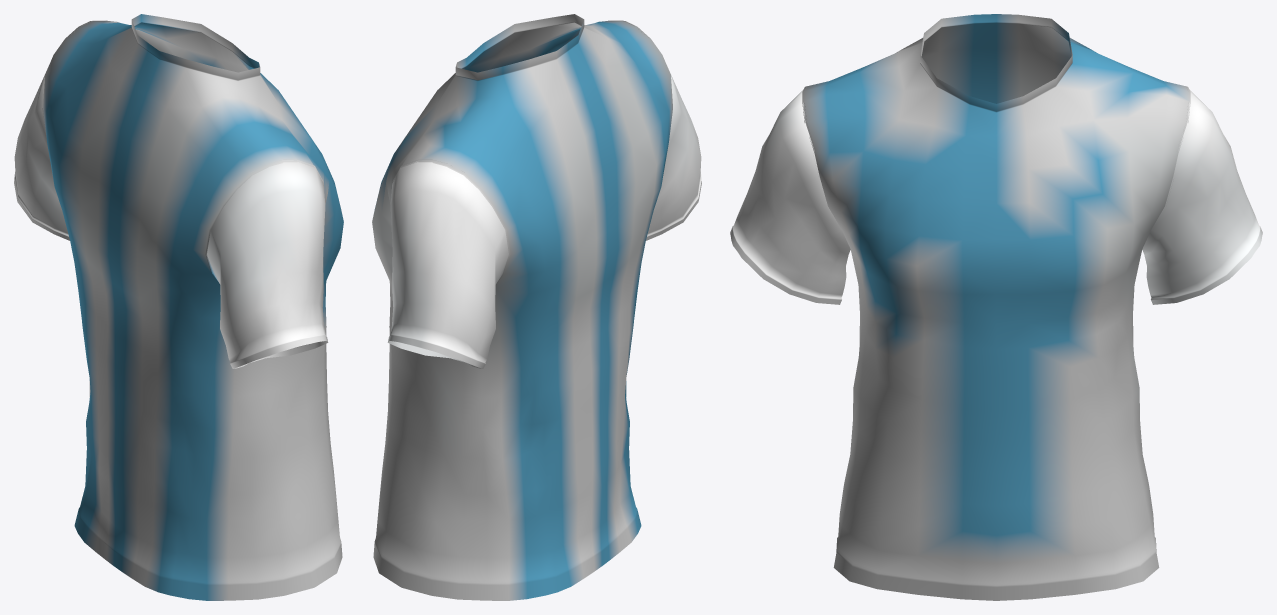
Rendered from remeraArgBase0.2.fbx.
3 renders of one model, left to right at view 1: azimuth 30°, elevation 25°; view 2: azimuth 150°, elevation 25°; view 3: azimuth 270°, elevation 25°, orthographic.
Visible parts, largest first — view 1: Plane.001, Plane.002, Plane.004; view 2: Plane.001, Plane.002, Plane.004; view 3: Plane.002, Plane.004, Plane.001.
Boxes of the visible parts, box(x1,y1,x2,y2) form: Plane.001: box(42, 14, 341, 600); Plane.002: box(79, 17, 343, 599); Plane.004: box(14, 20, 328, 368); Plane.001: box(447, 14, 672, 600); Plane.002: box(372, 14, 636, 599); Plane.004: box(387, 20, 701, 368); Plane.002: box(802, 22, 1190, 600); Plane.004: box(730, 87, 1262, 304); Plane.001: box(837, 14, 1096, 572).
Bounding box in the file's own units: 45.32 × 110 × 102.
